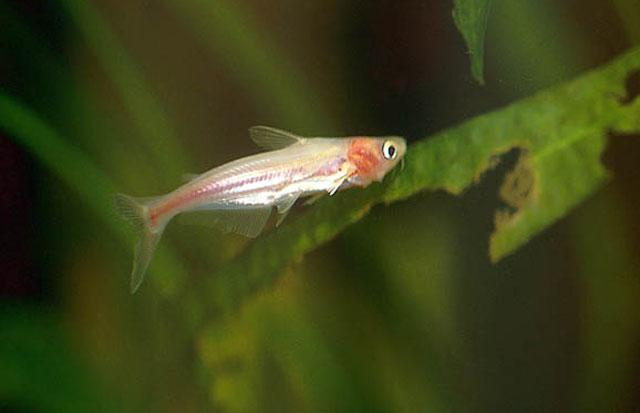Sirip Anal: (172, 200, 272, 240)
Sirip Dada: (316, 161, 372, 201)
Sirip Ekor: (99, 178, 169, 298)
Sirip Perut: (262, 182, 298, 244)
Sirip Punggung: (246, 123, 310, 155)
